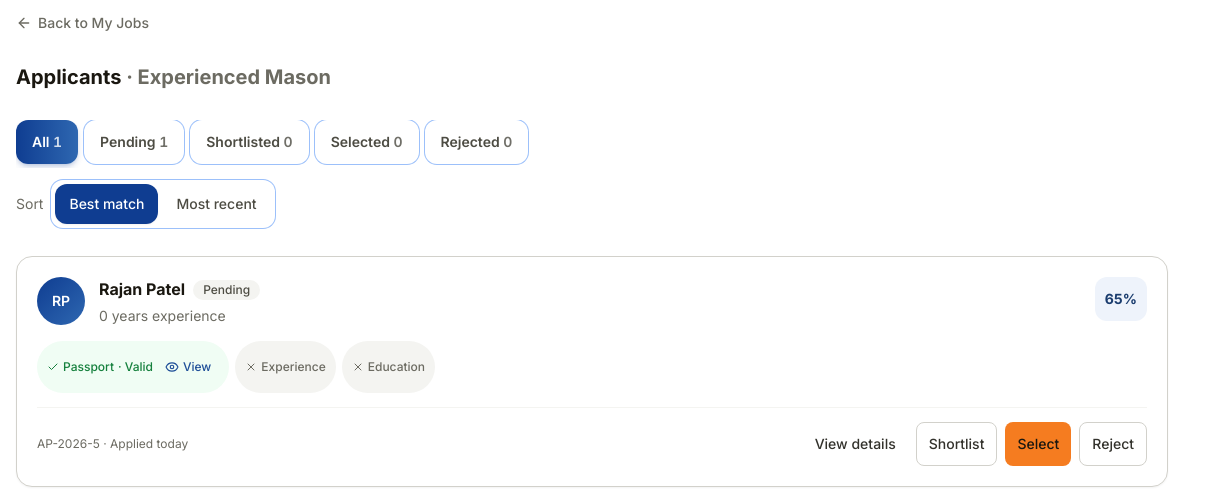
Test: Applicants pipeline — optimistic + 422 rollback › lists applicants and reconciles a stale illegal move (422 → rollback + toast + server truth)
Note: Applicant renders (PENDING) with a Shortlist action.
Click the button with aria-label "shortlist rajan" at [957, 444], box [916, 422, 997, 466]
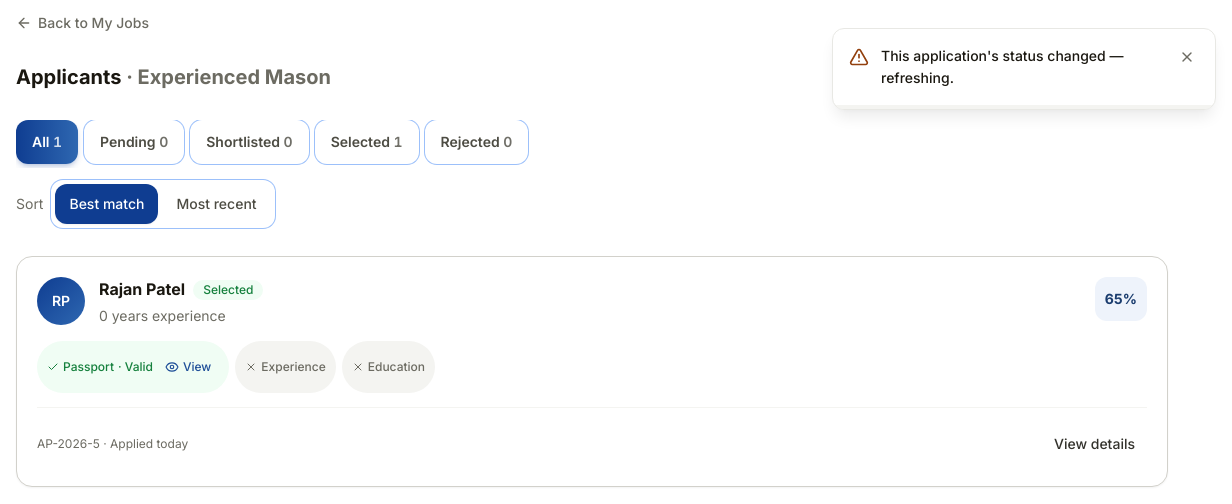
expect the text "This application's status changed — refreshing." is shown: met, box [881, 45, 1159, 89]
expect the text "Selected" is shown: met, box [193, 280, 263, 300]
